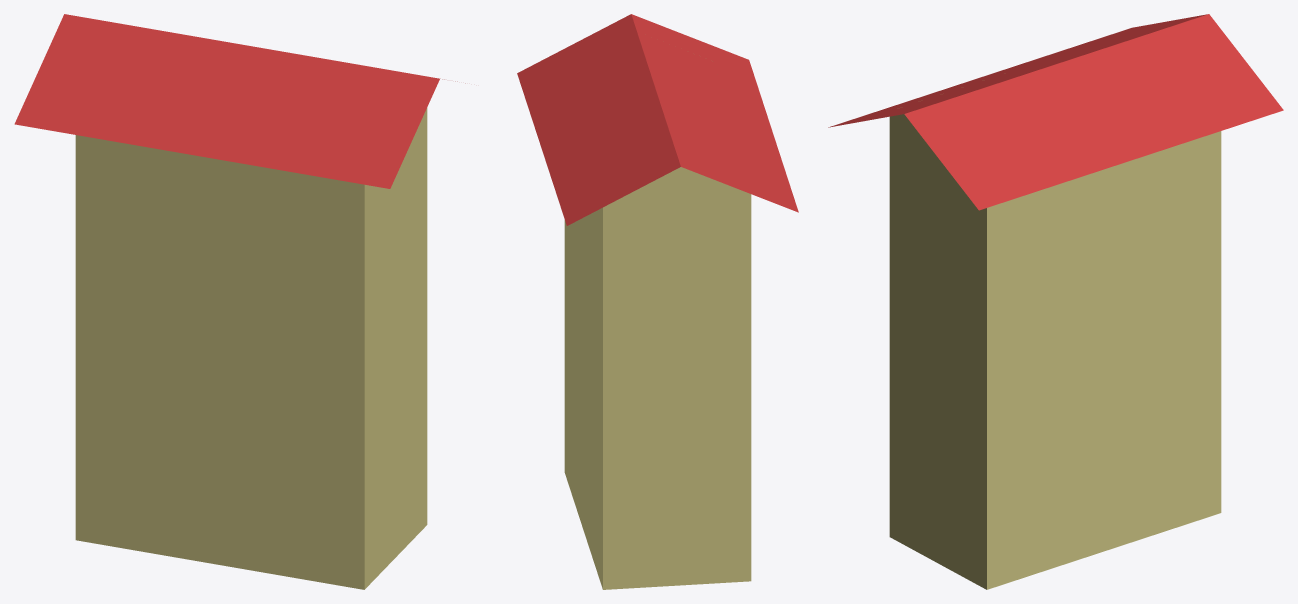
3 renders of one model, left to right at view 1: azimuth 30°, elevation 25°; view 2: azimuth 150°, elevation 25°; view 3: azimuth 270°, elevation 25°, orthographic. The views are drawn at different scales.
Size of the model in its own units: 4.84 by 5.12 by 5.7.
